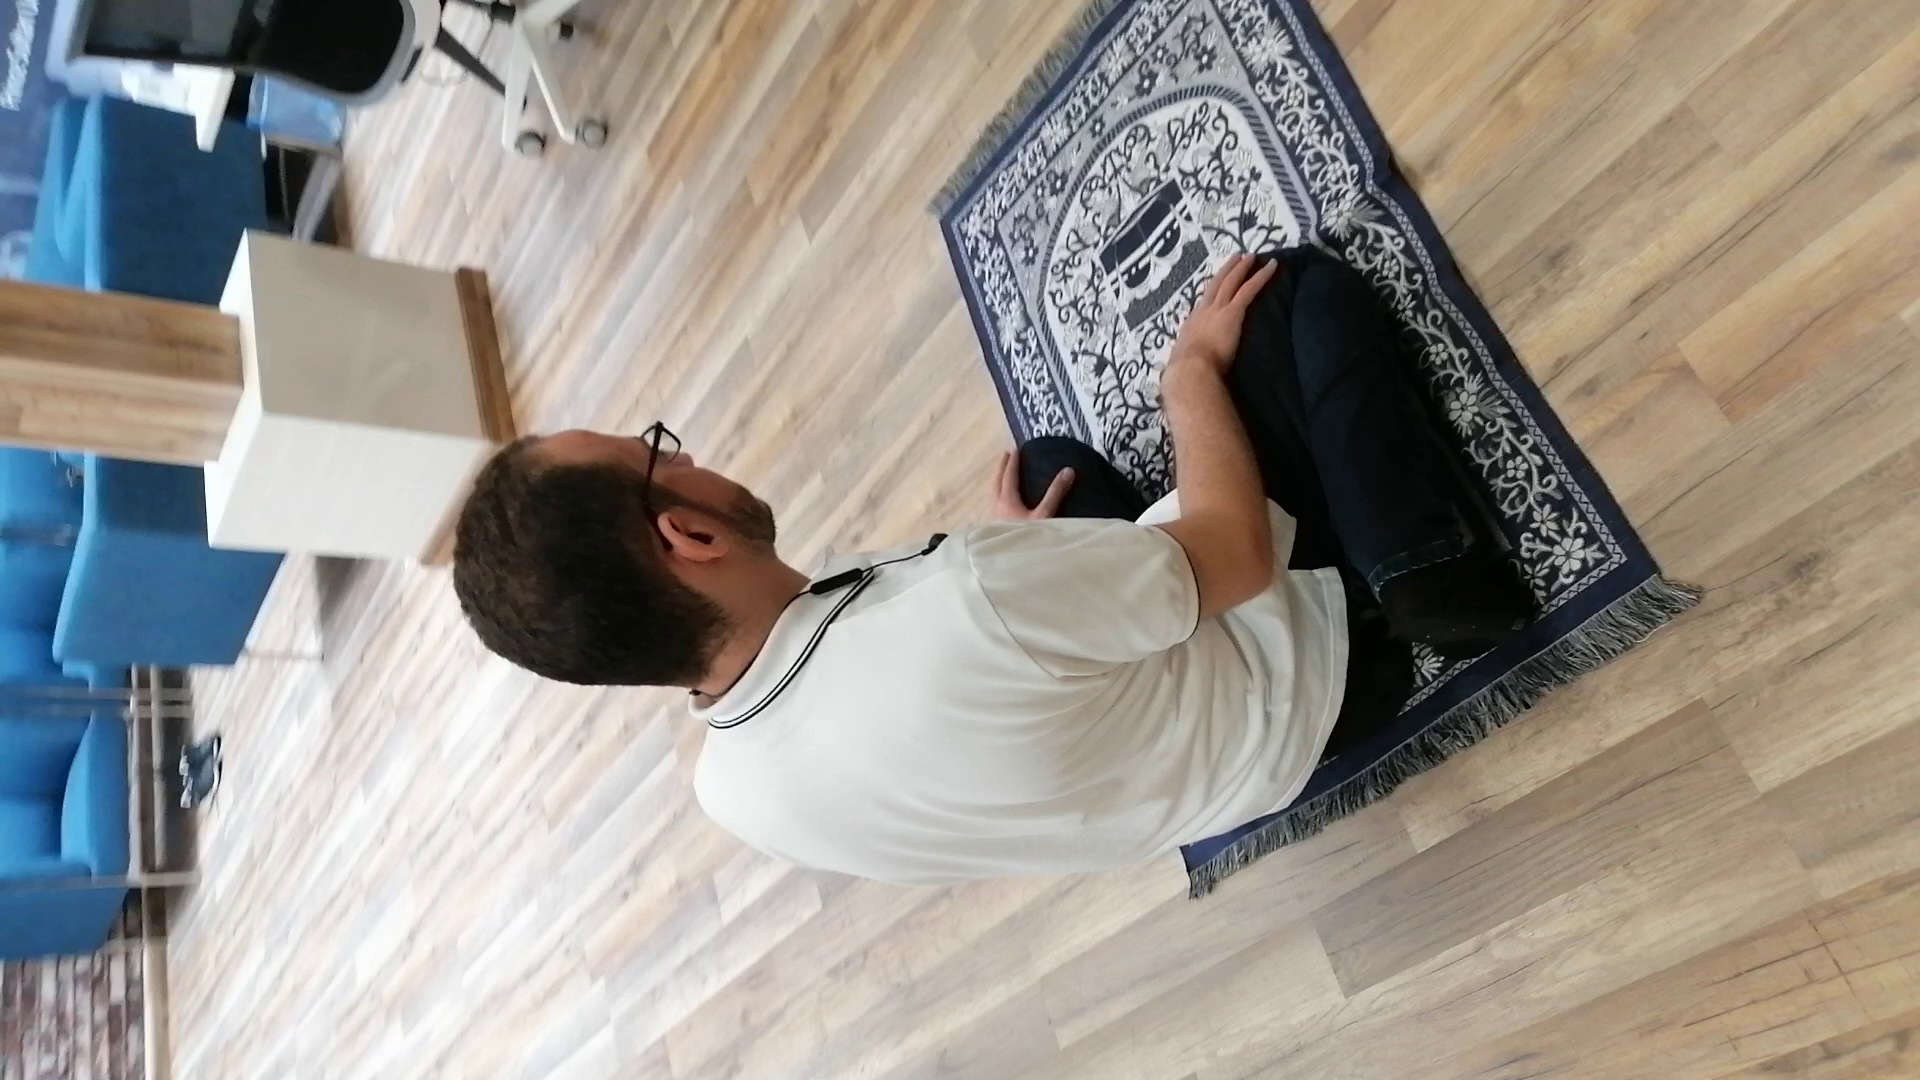sitting: (438, 237, 1542, 895)
